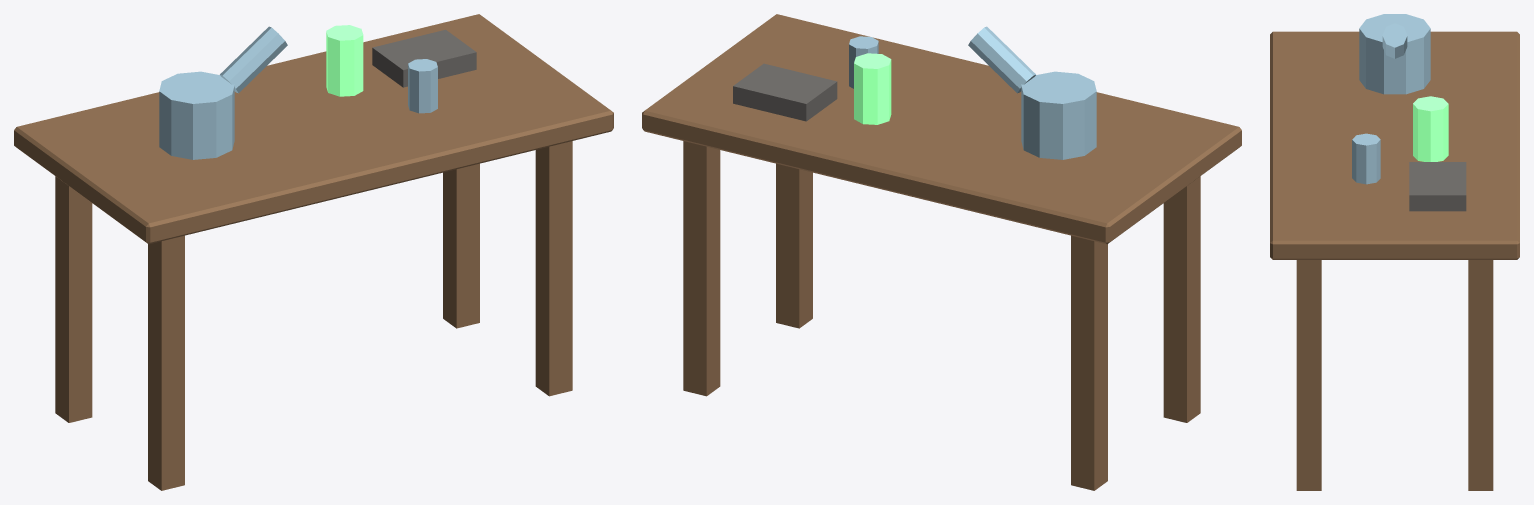
Rendered from alchemy_bench.glb.
3 renders of one model, left to right at view 1: azimuth 30°, elevation 25°; view 2: azimuth 150°, elevation 25°; view 3: azimuth 270°, elevation 25°, orthographic. The views are drawn at different scales.
Parts seen in each view (by area): view 1: alchemy_bench; view 2: alchemy_bench; view 3: alchemy_bench.
Part boxes in pixels (bbox=[...]): alchemy_bench: bbox=[14, 14, 613, 490]; alchemy_bench: bbox=[642, 14, 1241, 490]; alchemy_bench: bbox=[1270, 14, 1519, 490].
Size of the model in its own units: 1.4 by 1.1 by 0.7.
